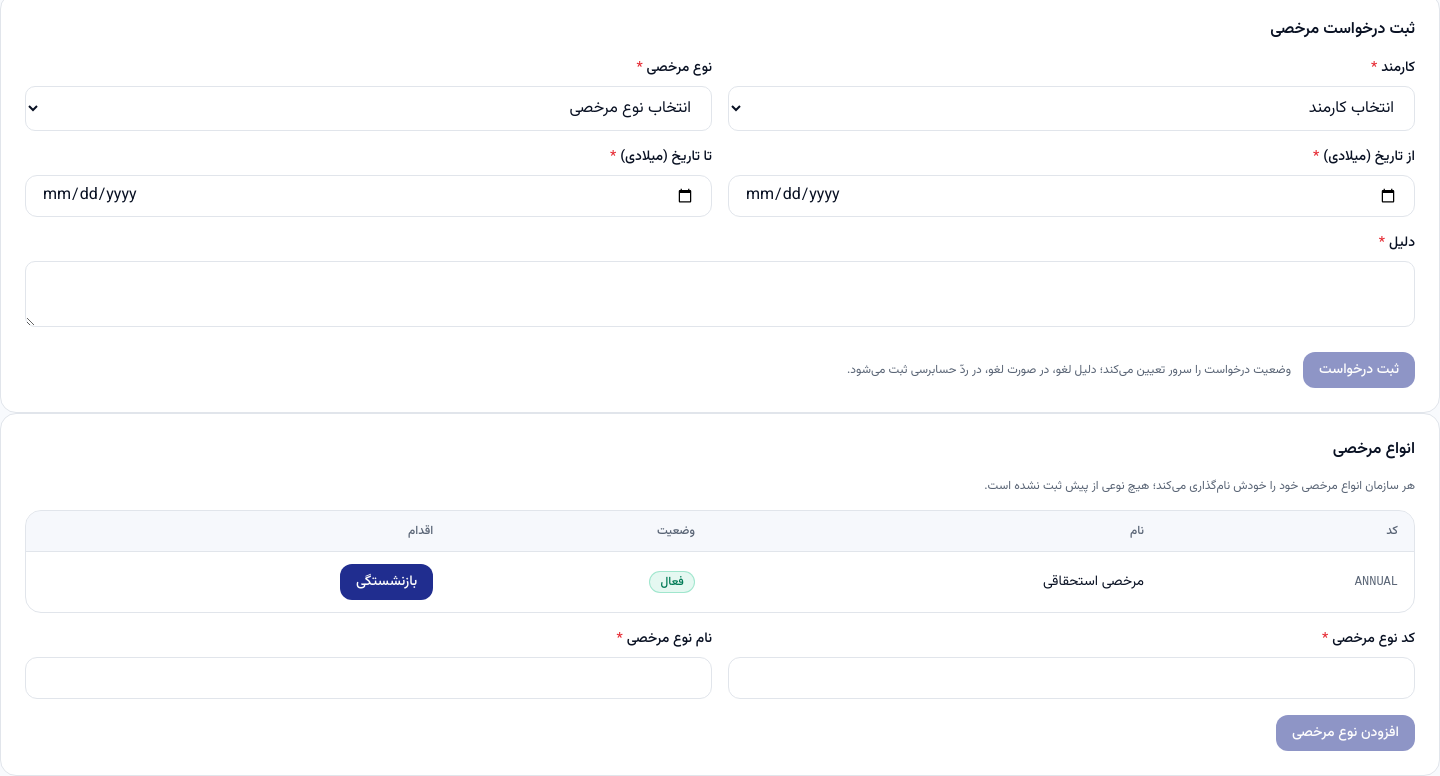
Scenario: HrLeaveView › retires a kind rather than deleting it, choosing the next state from the server’s own
(page scrolled)
Expected: the table with test id "hr-leave-type-table" is shown, [26,511,1414,612]
Click the button with test id "hr-leave-type-toggle-lt-1" at (387, 582), box [340,564,433,600]
(page scrolled)
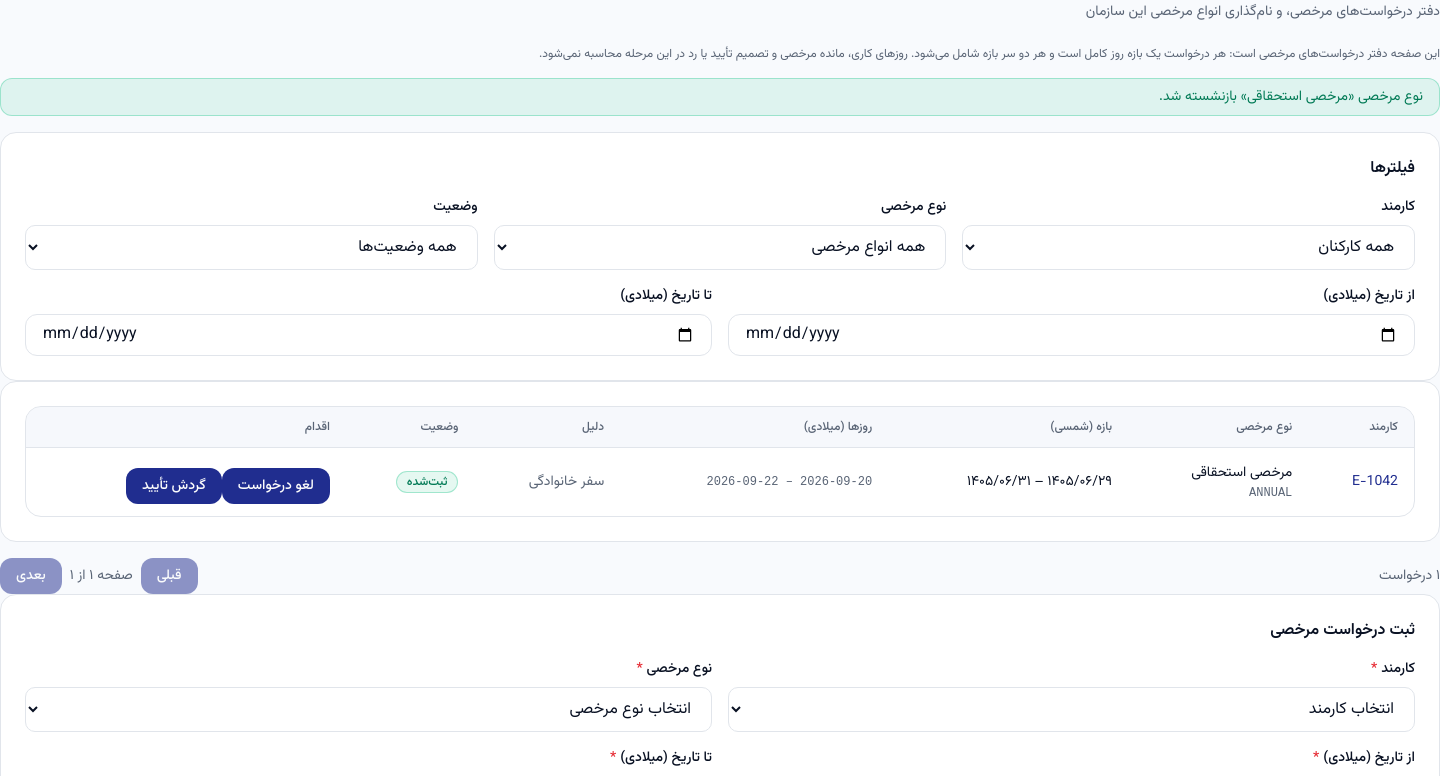
Now the text "نوع مرخصی «مرخصی استحقاقی» بازنشسته شد." is shown, box [0,78,1439,116]
